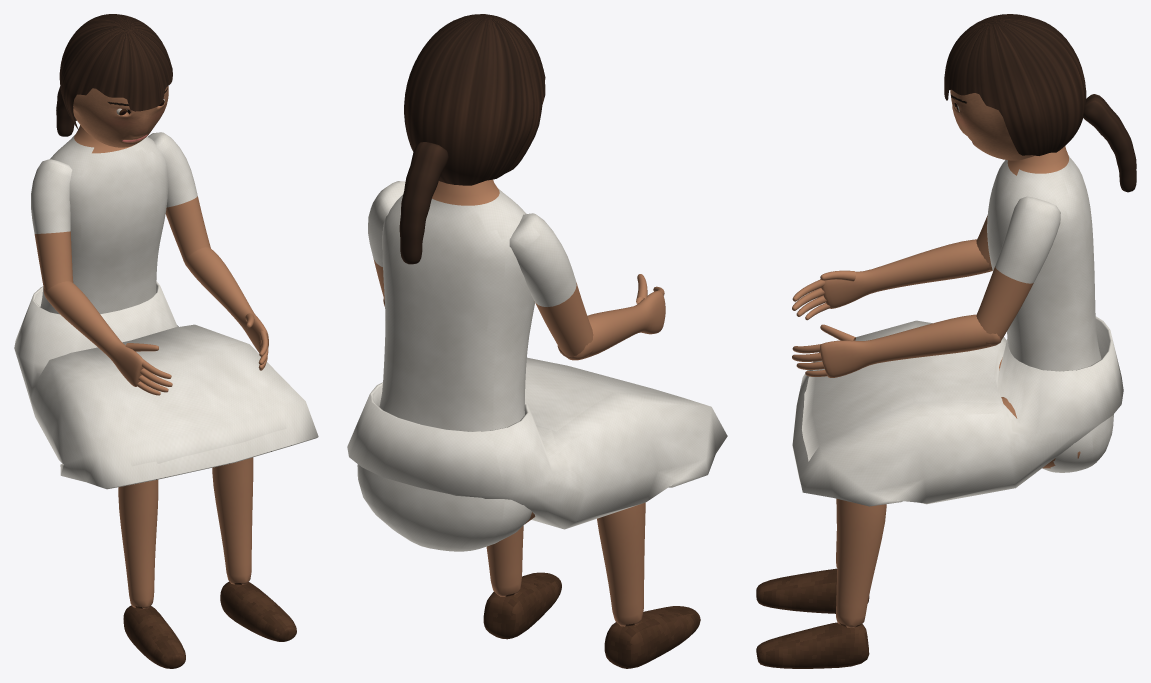
File: persona_nina_sentada.obj
3 renders of one model, left to right at view 1: azimuth 30°, elevation 25°; view 2: azimuth 150°, elevation 25°; view 3: azimuth 270°, elevation 25°, orthographic. The views are drawn at different scales.
Visible parts, largest first — view 1: persona_nina_sentada; view 2: persona_nina_sentada; view 3: persona_nina_sentada.
Part boxes in pixels (bbox=[...]): persona_nina_sentada: bbox=[14, 14, 318, 668]; persona_nina_sentada: bbox=[347, 14, 727, 668]; persona_nina_sentada: bbox=[756, 14, 1136, 668].
Size of the model in its own units: 0.4074 by 0.8973 by 0.4994.
10 materials, 10 textured.
